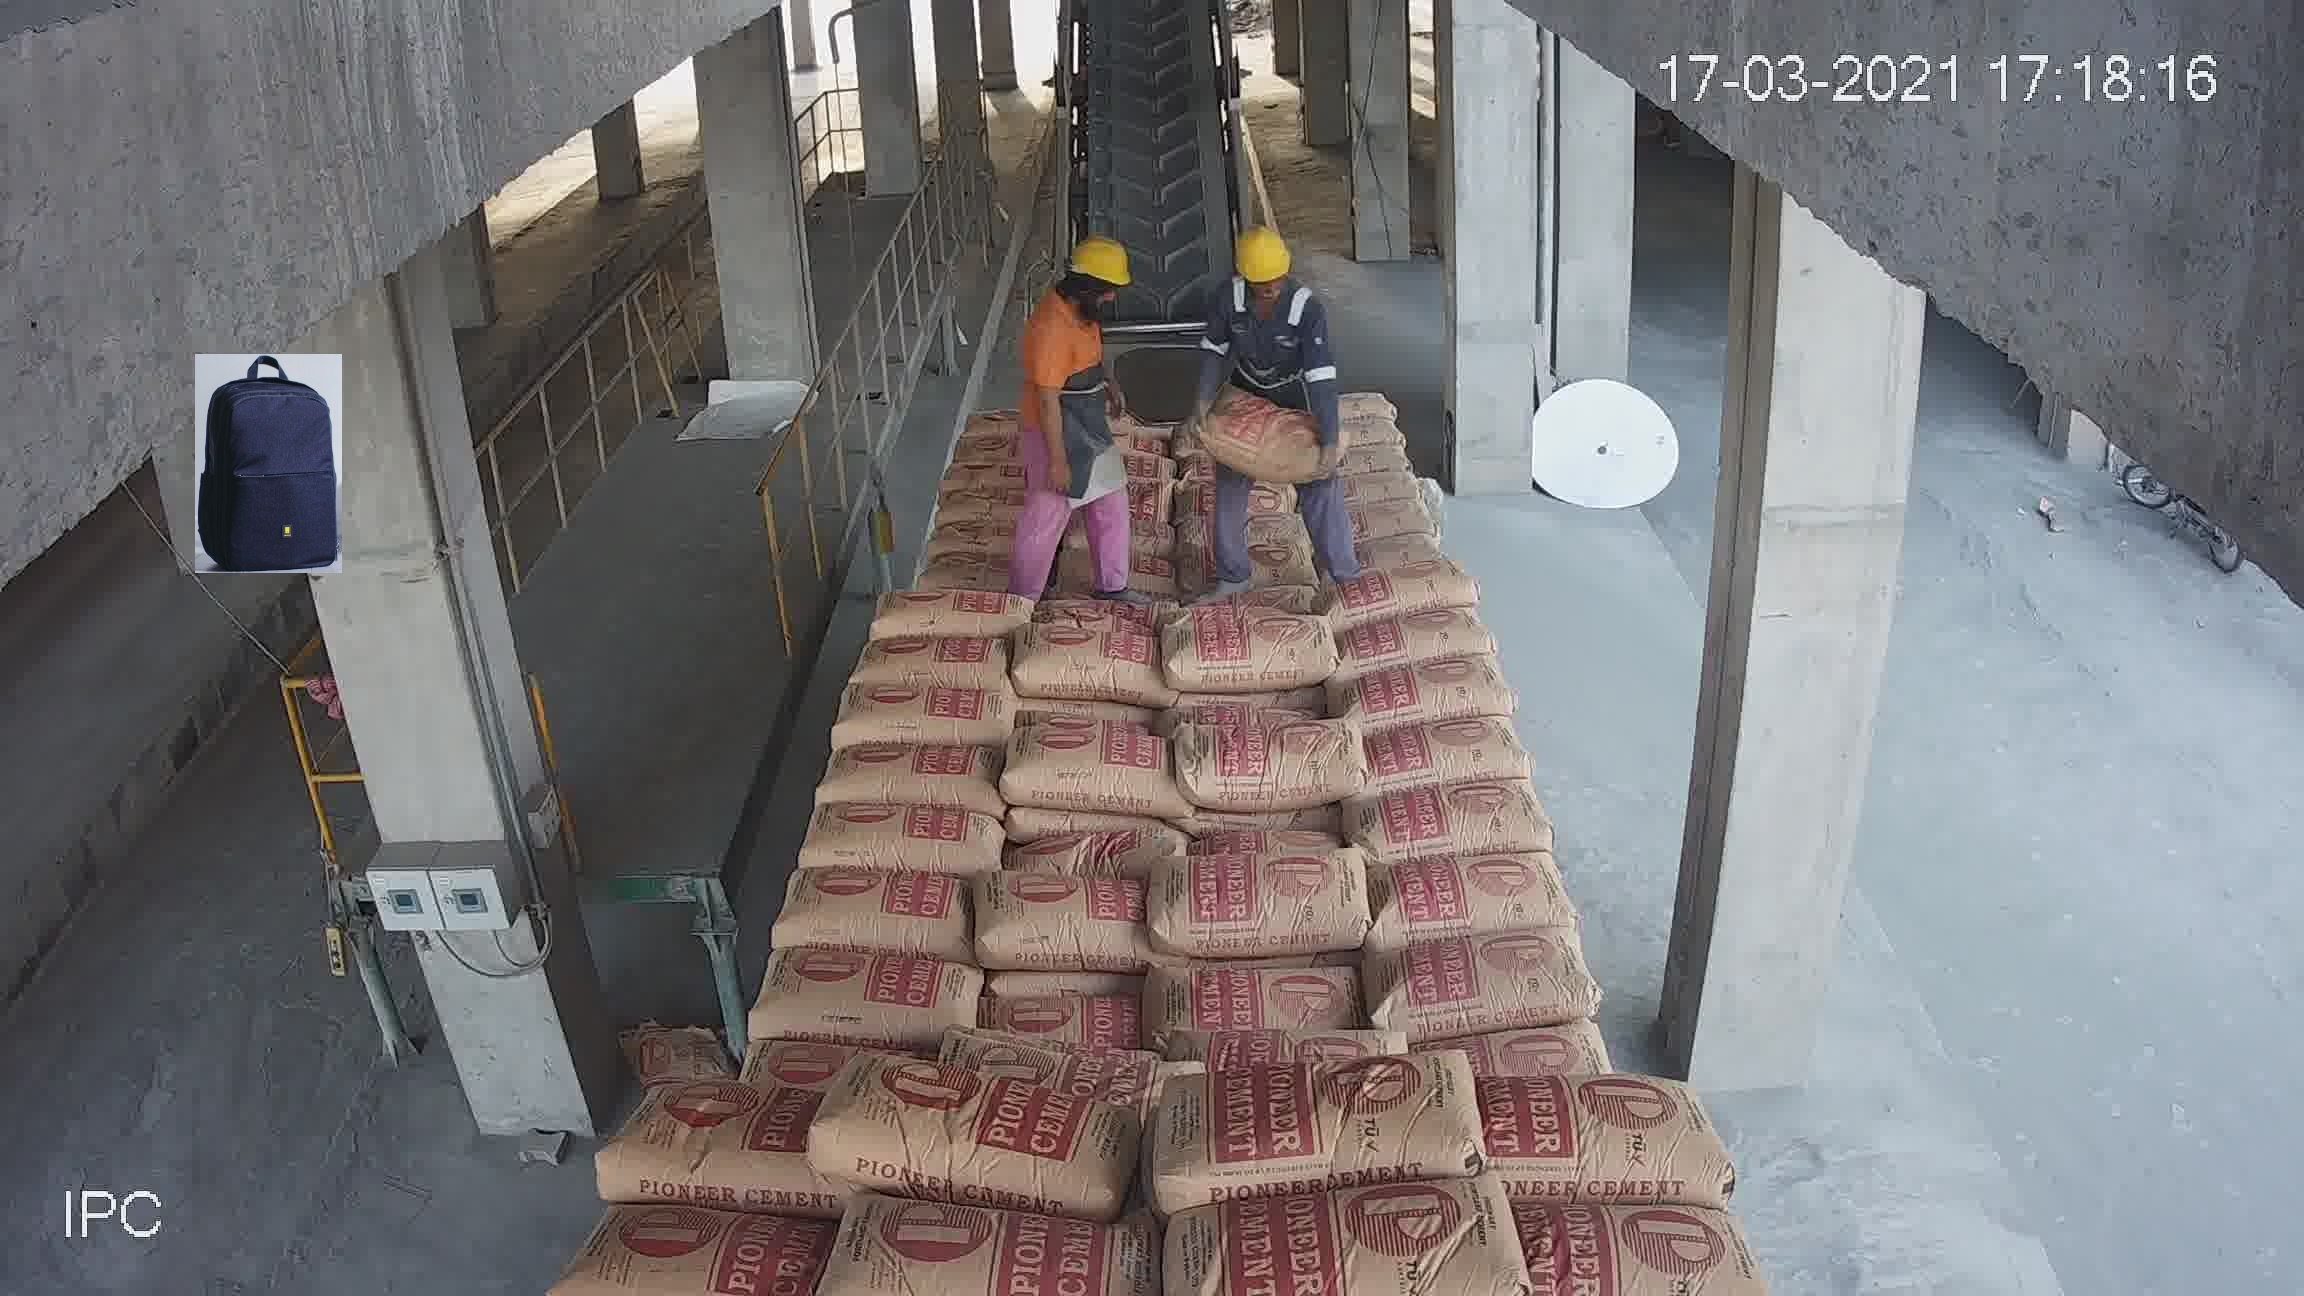bag_h: (1136, 1049, 1462, 1204), (802, 1051, 1108, 1203), (1483, 1078, 1720, 1201), (1146, 843, 1377, 962), (1367, 916, 1582, 1043), (739, 949, 975, 1059), (589, 1070, 807, 1187), (1369, 839, 1582, 948), (1155, 597, 1336, 707), (764, 877, 970, 972), (1163, 718, 1362, 813), (973, 867, 1144, 976), (995, 720, 1176, 812), (1416, 1022, 1609, 1106), (929, 1035, 1157, 1105), (1166, 954, 1356, 1033), (1359, 780, 1556, 856), (794, 794, 1002, 866), (1378, 709, 1524, 809), (1010, 608, 1154, 707), (1345, 646, 1513, 731), (813, 734, 1006, 807), (1199, 381, 1329, 481), (832, 677, 1016, 745), (845, 623, 1013, 698), (981, 976, 1130, 1059), (1008, 815, 1173, 888), (851, 578, 1029, 644), (1328, 541, 1468, 620), (1339, 609, 1502, 668), (1351, 503, 1454, 573), (1345, 497, 1438, 554), (938, 454, 1033, 503), (923, 489, 1038, 529), (919, 517, 1022, 557), (1339, 460, 1419, 510), (911, 555, 1013, 592), (1328, 386, 1405, 434), (934, 430, 1021, 467), (1328, 415, 1400, 456)
belt: (1049, 44, 1253, 405)
